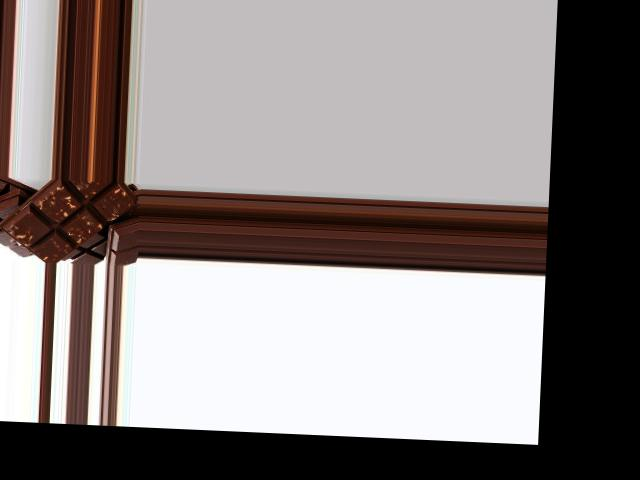chocolate: (6, 176, 136, 265)
